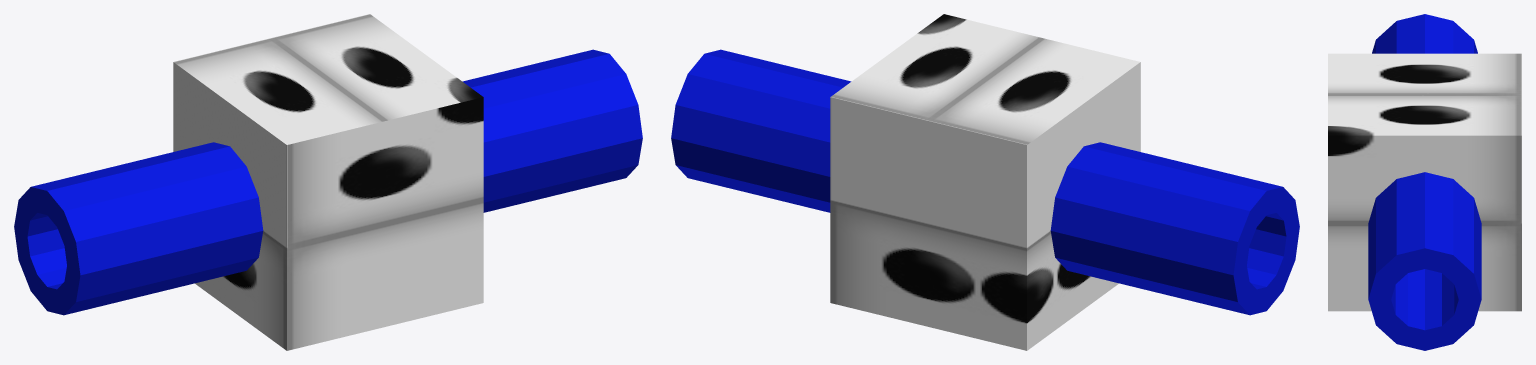
Rendered from silinder.fbx.
3 renders of one model, left to right at view 1: azimuth 30°, elevation 25°; view 2: azimuth 150°, elevation 25°; view 3: azimuth 270°, elevation 25°, orthographic. The views are drawn at different scales.
Parts seen in each view (by area): view 1: 立方体; view 2: 立方体; view 3: 立方体.
Boxes of the visible parts, x1,y1,x2,y2 form: 立方体: [14, 14, 642, 350]; 立方体: [671, 14, 1299, 350]; 立方体: [1328, 14, 1521, 350].
Size of the model in its own units: 5.72 by 2 by 2.
2 materials, 1 textured.
